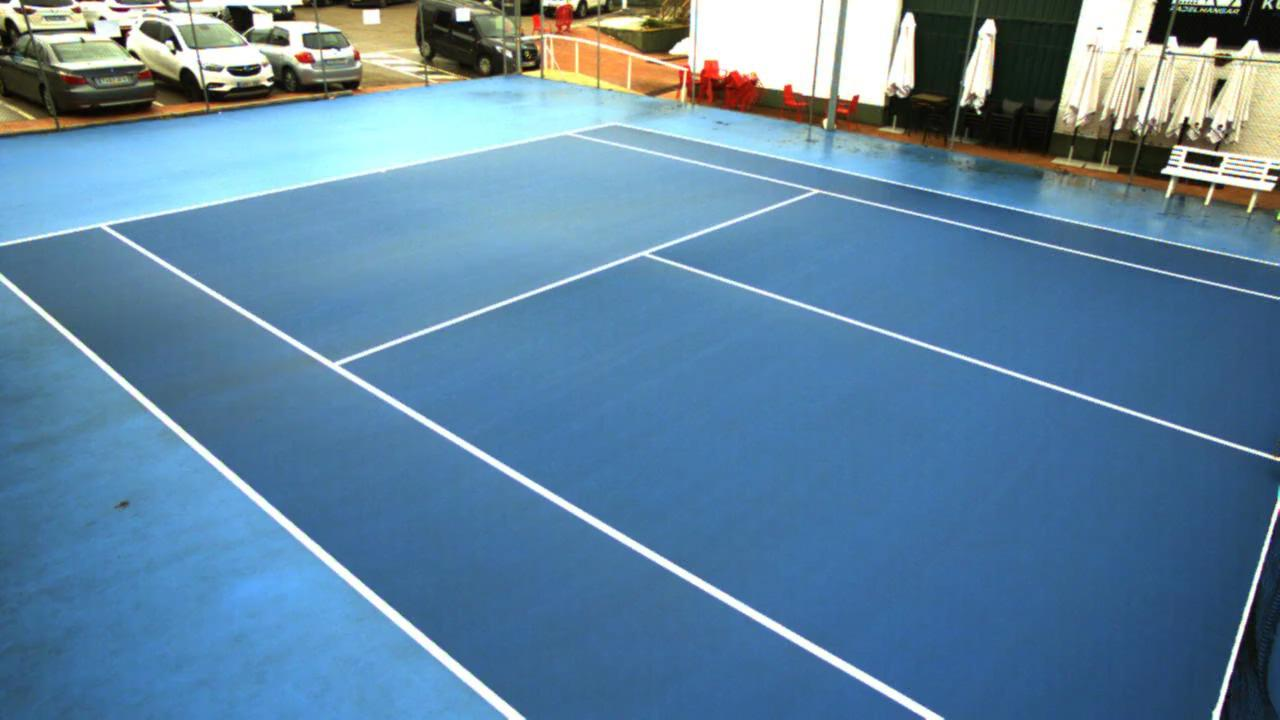cancha_tenis: (104, 131, 1280, 720)
point_f1: (93, 214, 121, 238)
point_f2: (554, 123, 587, 144)
point_fc1: (372, 161, 398, 178)
point_i1: (318, 351, 357, 379)
point_i2: (799, 182, 827, 202)
point_ic1: (633, 243, 663, 266)
